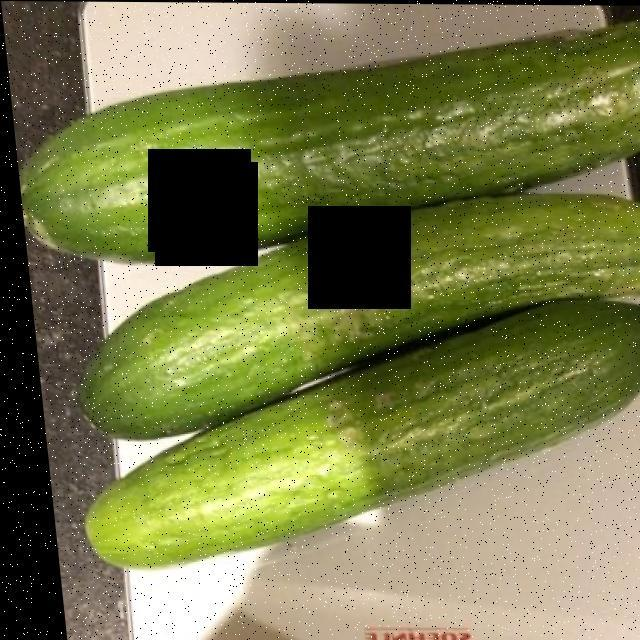cucumber: (23, 20, 640, 576)
